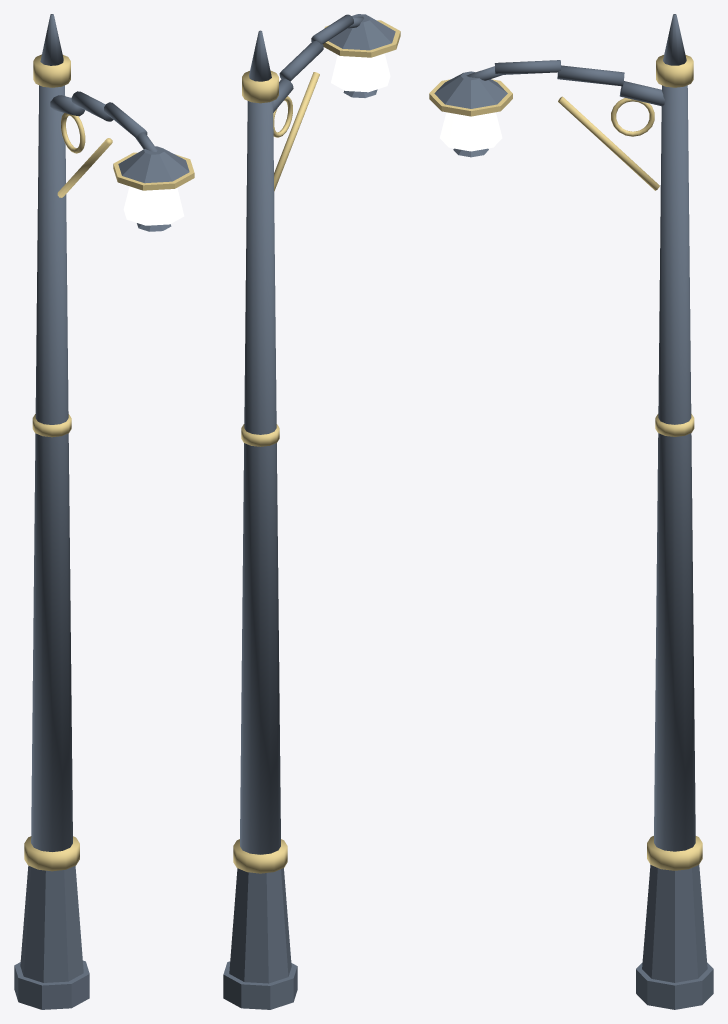
Rendered from prop_street_lamp.glb.
3 renders of one model, left to right at view 1: azimuth 30°, elevation 25°; view 2: azimuth 150°, elevation 25°; view 3: azimuth 270°, elevation 25°, orthographic.
Parts seen in each view (by area): view 1: BaseFoot; view 2: BaseFoot; view 3: BaseFoot.
Boxes of the visible parts, box(x1,y1,x2,y2) form: BaseFoot: box(14, 14, 194, 1009); BaseFoot: box(223, 14, 400, 1009); BaseFoot: box(429, 14, 713, 1009).
Size of the model in its own units: 0.5599 by 7.21 by 1.9.
